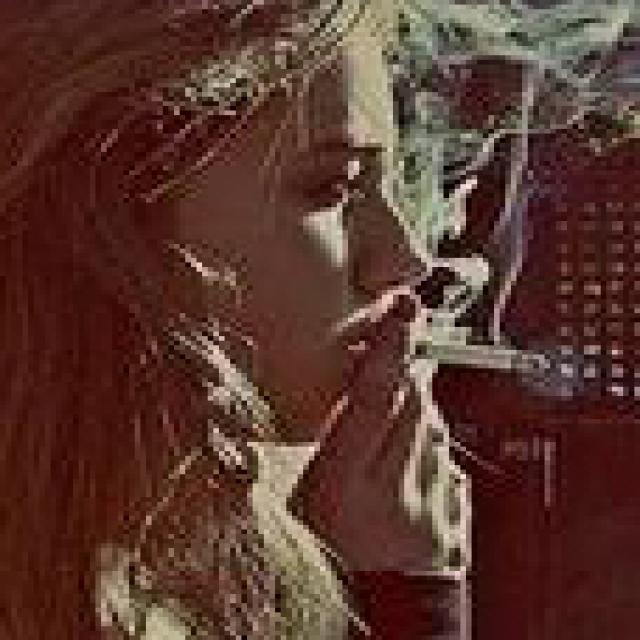smoking: (404, 339, 546, 373)
